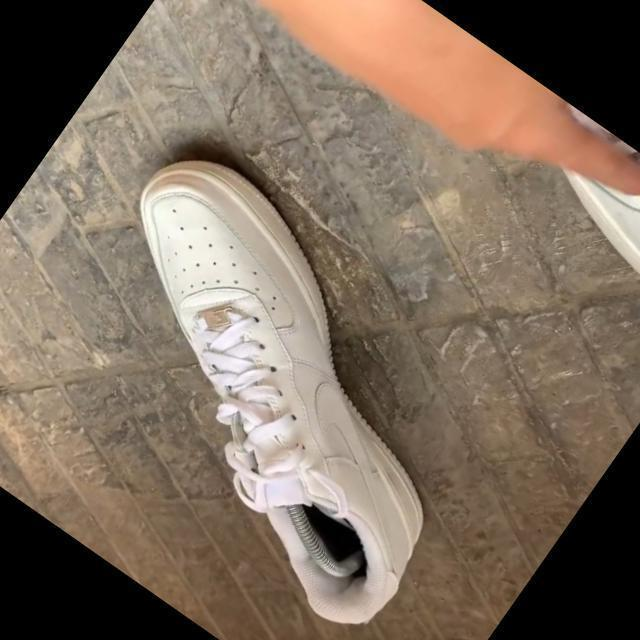nike fake air force: (0, 121, 542, 639)
